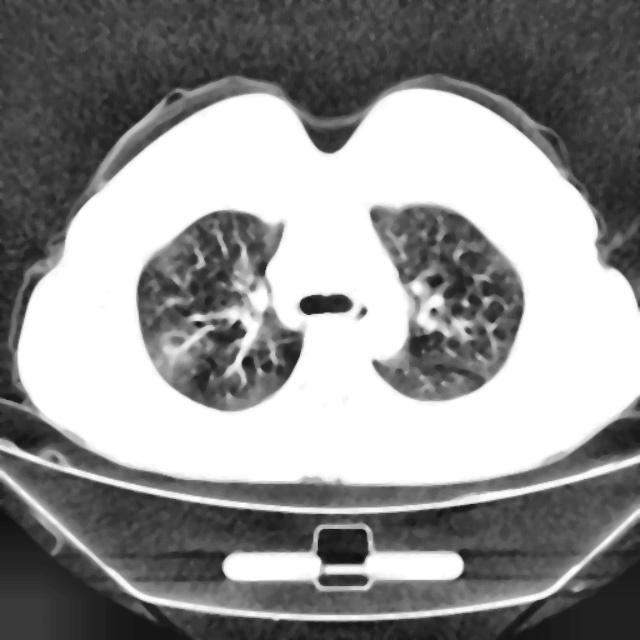covid: (12, 72, 638, 489)
